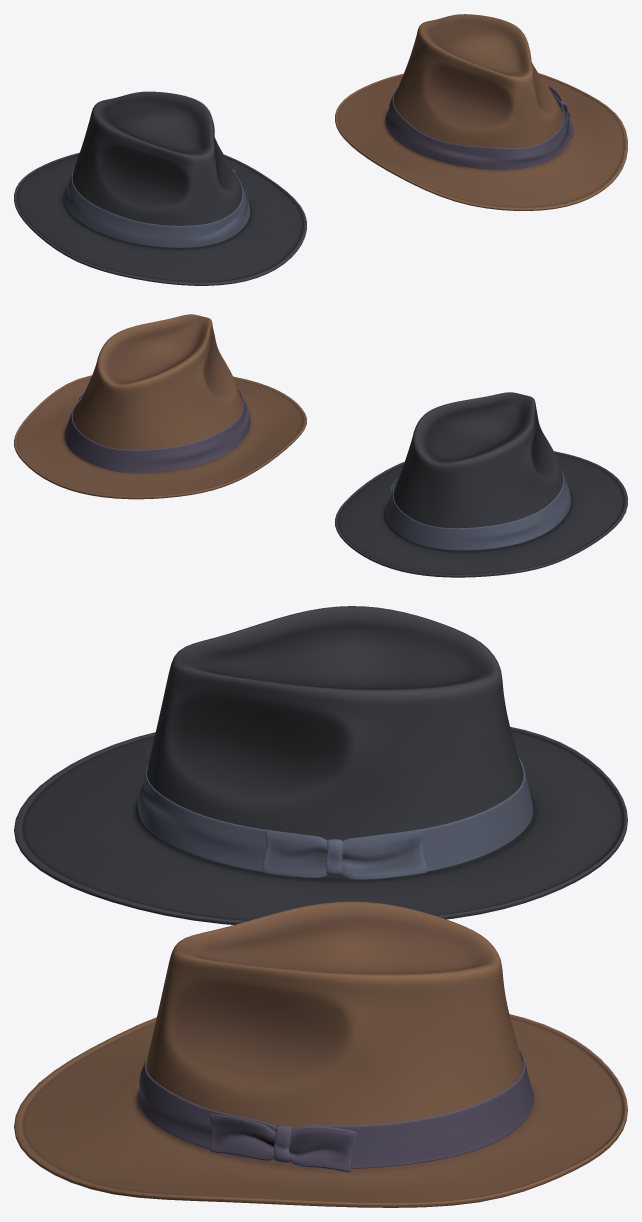
The model's file is federa.glb.
3 views of the same model, one above another, from view 1: azimuth 30°, elevation 25°; view 2: azimuth 150°, elevation 25°; view 3: azimuth 270°, elevation 25° (orthographic). The views are drawn at different scales.
Parts seen in each view (by area): view 1: hat1_8, hat4_4, Circle.012_6, Circle.009_1; view 2: hat1_8, hat4_4, Circle.009_1, Circle.012_6; view 3: hat1_8, hat4_4, Circle.009_1, Circle.012_6, Circle.003_5, Circle.013_2.
Part boxes in pixels (left/top/right/bottom): hat1_8: left=14, top=91, right=306, bottom=285; hat4_4: left=335, top=14, right=627, bottom=210; Circle.012_6: left=64, top=168, right=250, bottom=247; Circle.009_1: left=385, top=85, right=570, bottom=169; hat1_8: left=335, top=392, right=627, bottom=577; hat4_4: left=14, top=314, right=306, bottom=499; Circle.009_1: left=65, top=387, right=250, bottom=473; Circle.012_6: left=385, top=469, right=571, bottom=550; hat1_8: left=14, top=606, right=627, bottom=924; hat4_4: left=14, top=901, right=627, bottom=1207; Circle.009_1: left=138, top=1047, right=533, bottom=1168; Circle.012_6: left=138, top=757, right=533, bottom=872; Circle.003_5: left=262, top=831, right=427, bottom=879; Circle.013_2: left=209, top=1114, right=356, bottom=1172.
Bounding box in the file's own units: 6.89 × 1.23 × 3.58.
Materials: 2 (2 with a texture image).
